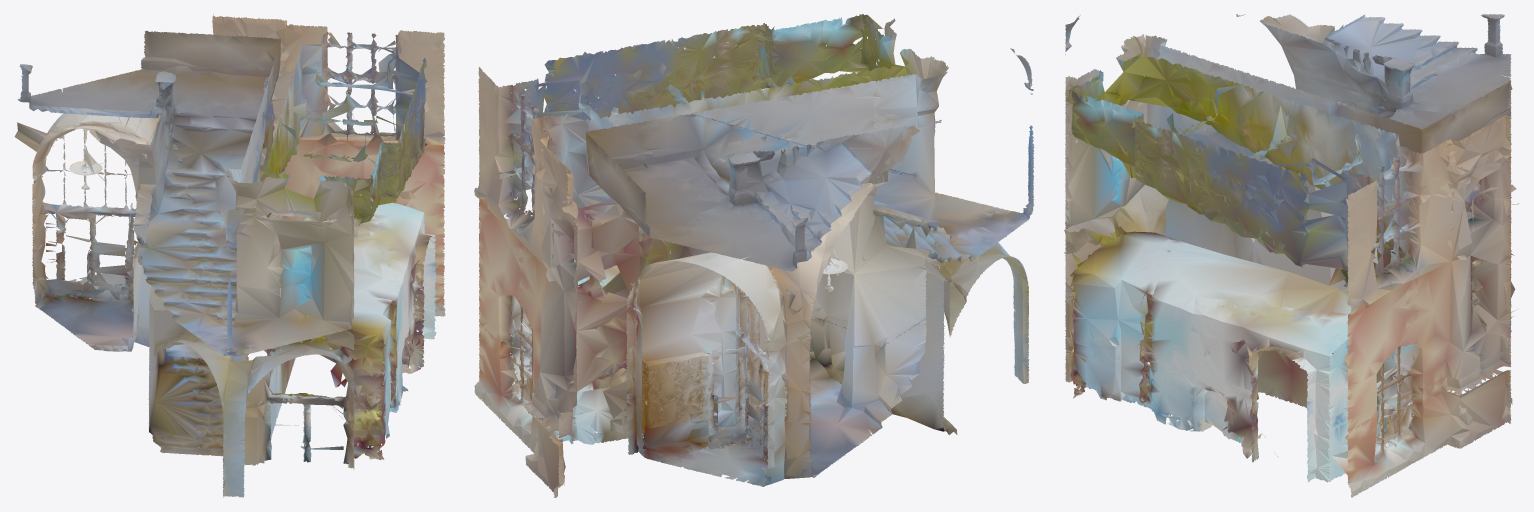
The picture shows the model from 3 angles, left to right: view 1: azimuth 30°, elevation 25°; view 2: azimuth 150°, elevation 25°; view 3: azimuth 270°, elevation 25°; orthographic projection. The views are drawn at different scales.
Bounding box in the file's own units: 9.8 × 7.5 × 10.25.
